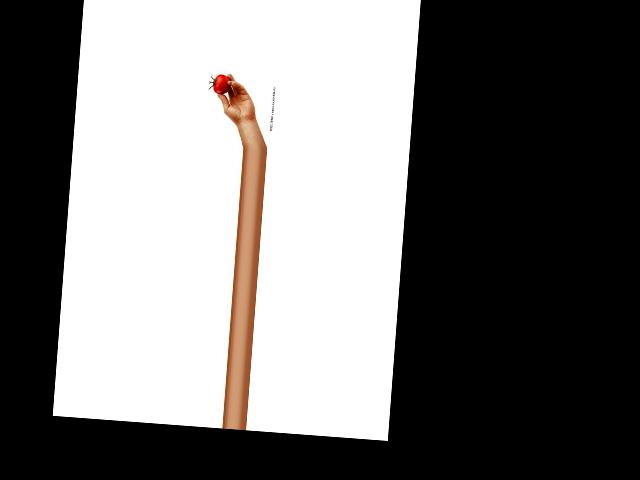tomato: (213, 74, 231, 95)
